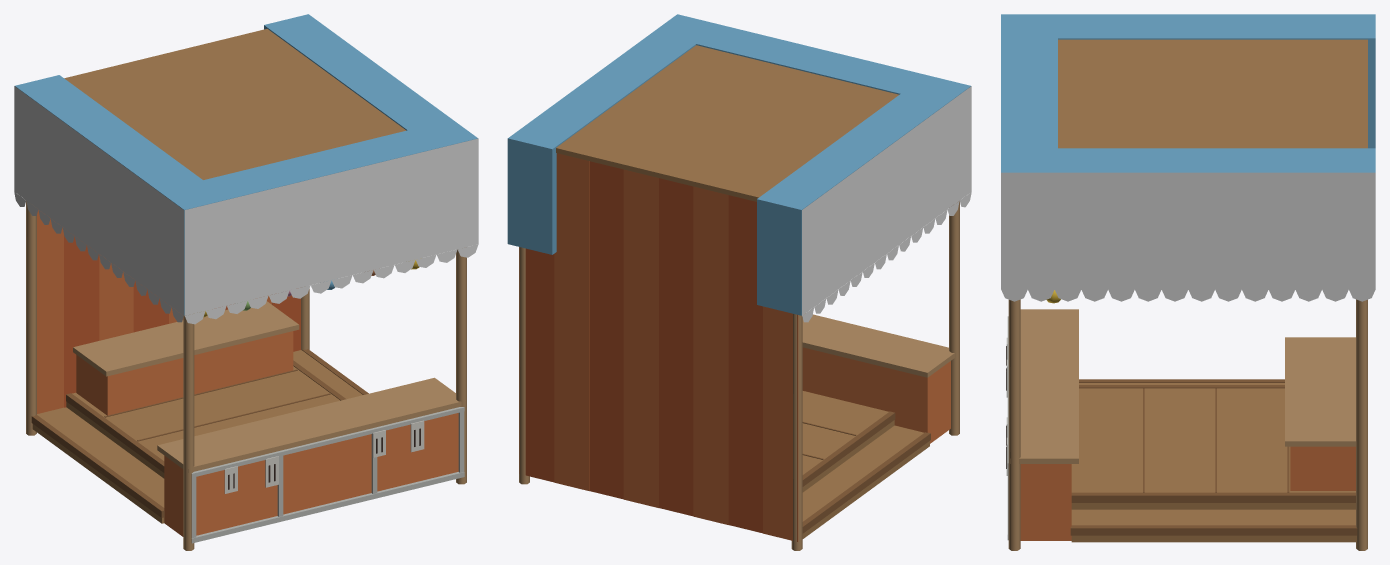
File: stall_blue.glb
3 views of the same model, side by side, from view 1: azimuth 30°, elevation 25°; view 2: azimuth 150°, elevation 25°; view 3: azimuth 270°, elevation 25° (orthographic). The views are drawn at different scales.
Parts seen in each view (by area): view 1: stall_blue, stall_blue_label, stall_blue_board, stall_blue_label2; view 2: stall_blue, stall_blue_board, stall_blue_label2; view 3: stall_blue, stall_blue_label1, stall_blue_board.
Boxes of the visible parts, x1,y1,x2,y2 form: stall_blue: [14, 29, 478, 550]; stall_blue_label: [184, 138, 478, 315]; stall_blue_board: [15, 14, 477, 315]; stall_blue_label2: [14, 86, 183, 315]; stall_blue: [519, 45, 971, 550]; stall_blue_board: [507, 14, 970, 315]; stall_blue_label2: [802, 86, 971, 315]; stall_blue: [1001, 39, 1375, 550]; stall_blue_label1: [1001, 172, 1375, 289]; stall_blue_board: [1001, 14, 1375, 172].
Size of the model in its own units: 2.51 by 2.81 by 2.51.
